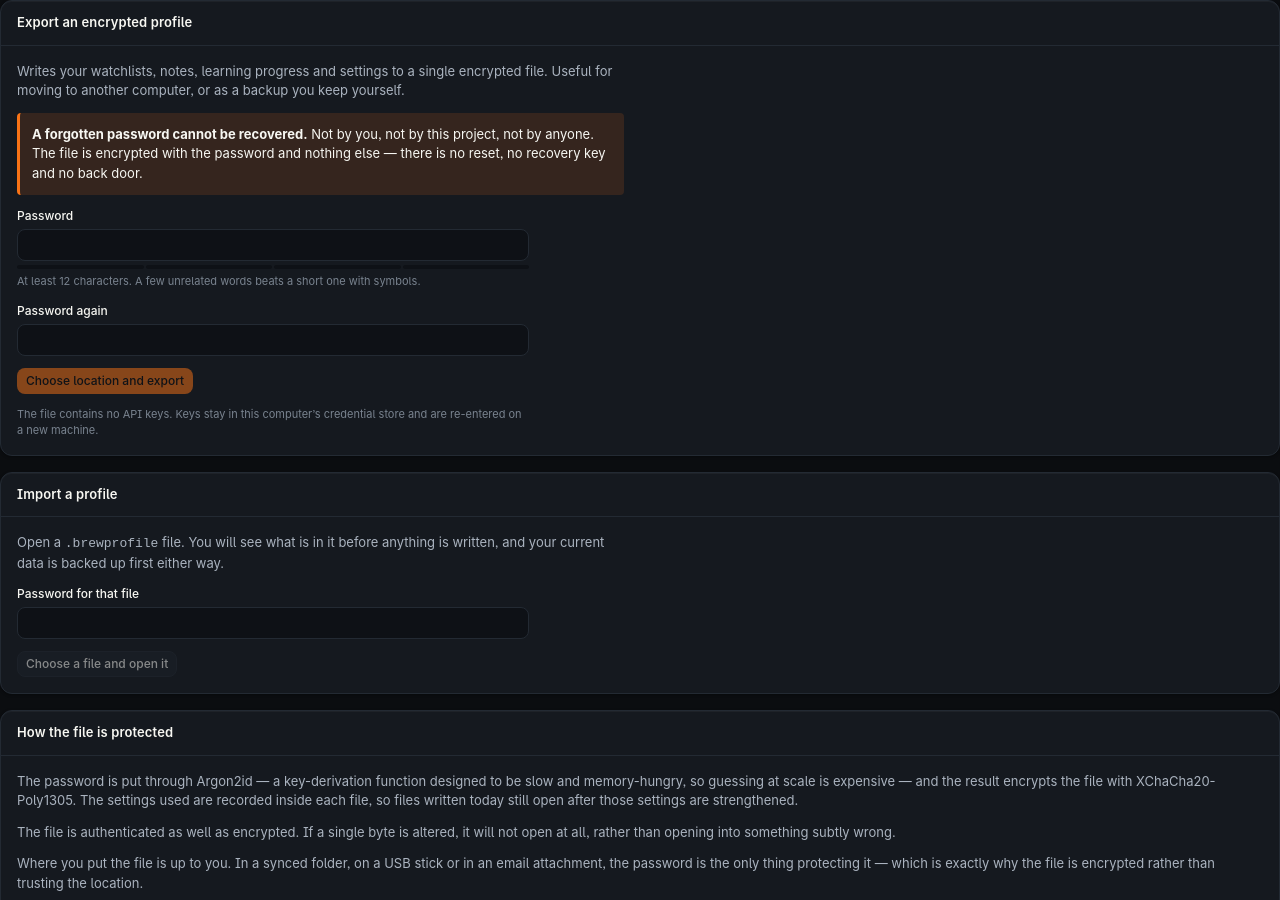
Test: importing a profile › reports a wrong password without applying anything
In the password field labelled "Password": (273, 245) [17,229,529,261], type "correct horse battery staple"
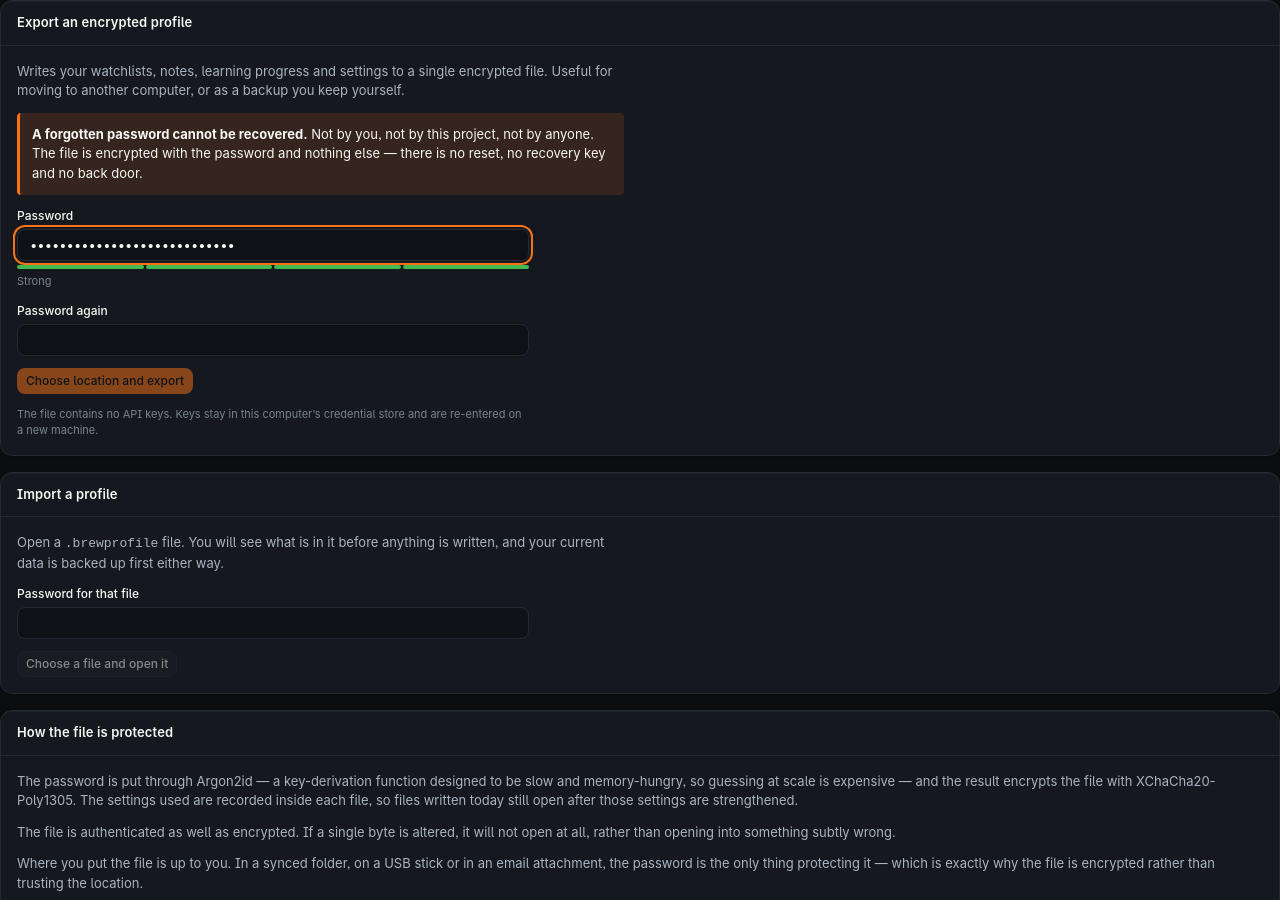
In the password field labelled "Password again": (273, 340) [17,324,529,356], type "correct horse battery staple"
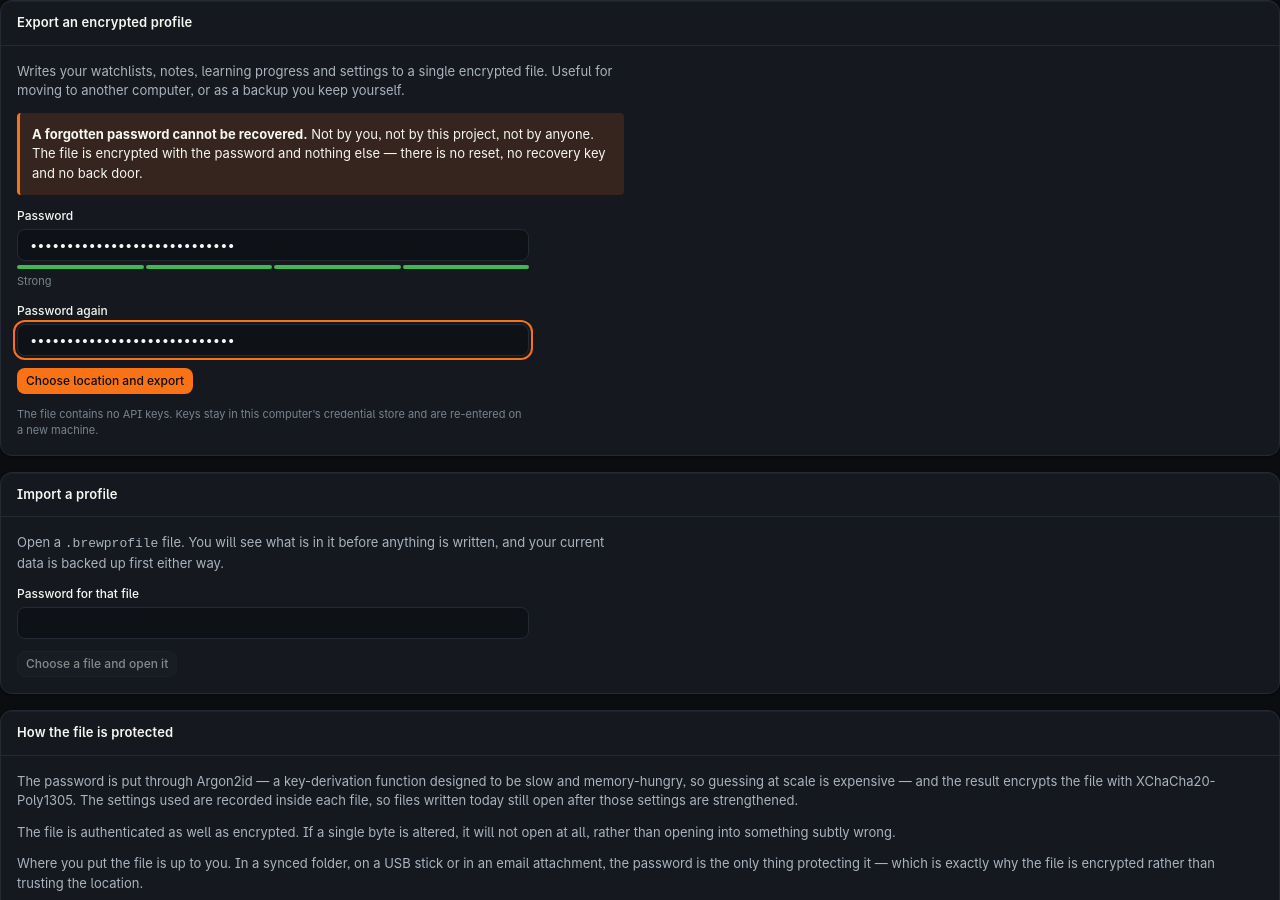
Click the button "Choose location and export": click(105, 380) [17,368,193,394]
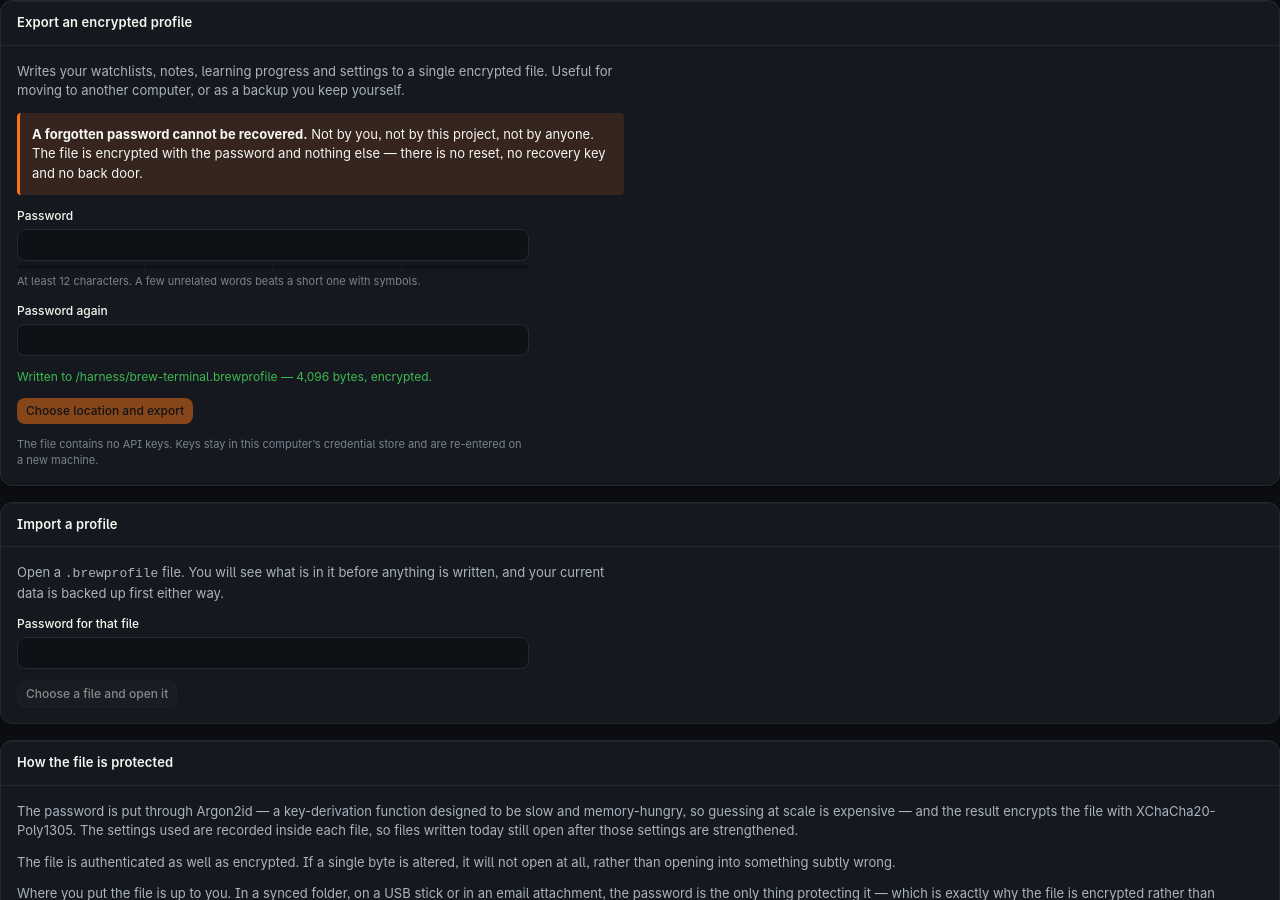
Now the text "Written to /harness/brew-terminal.brewprofile — 4,096 bytes, encrypted." is shown, box [17,368,432,384]
In the password field labelled "Password for that file": (273, 653) [17,637,529,669], type "not the right password"
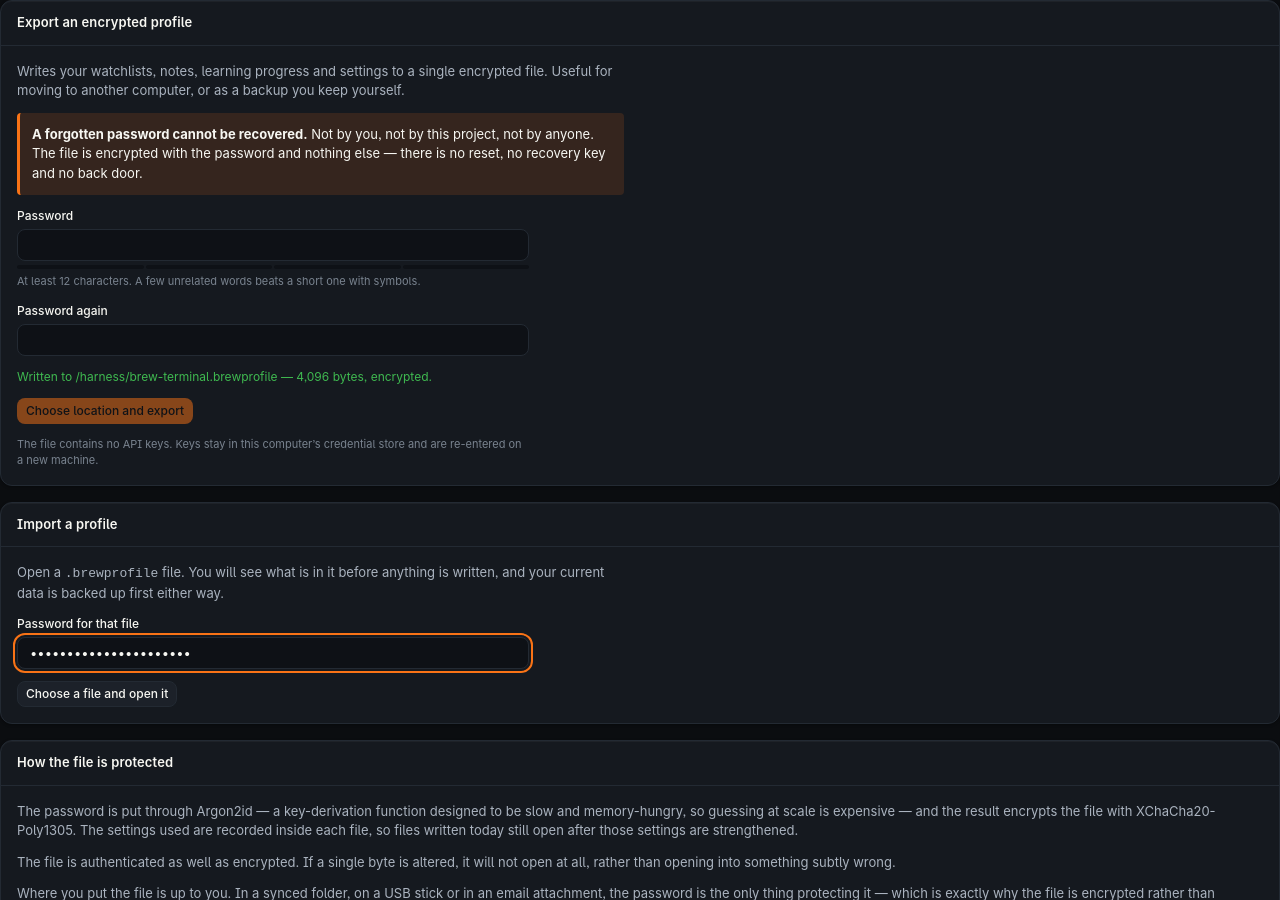
Click the button "Choose a file and open it": click(97, 694) [17,681,177,707]
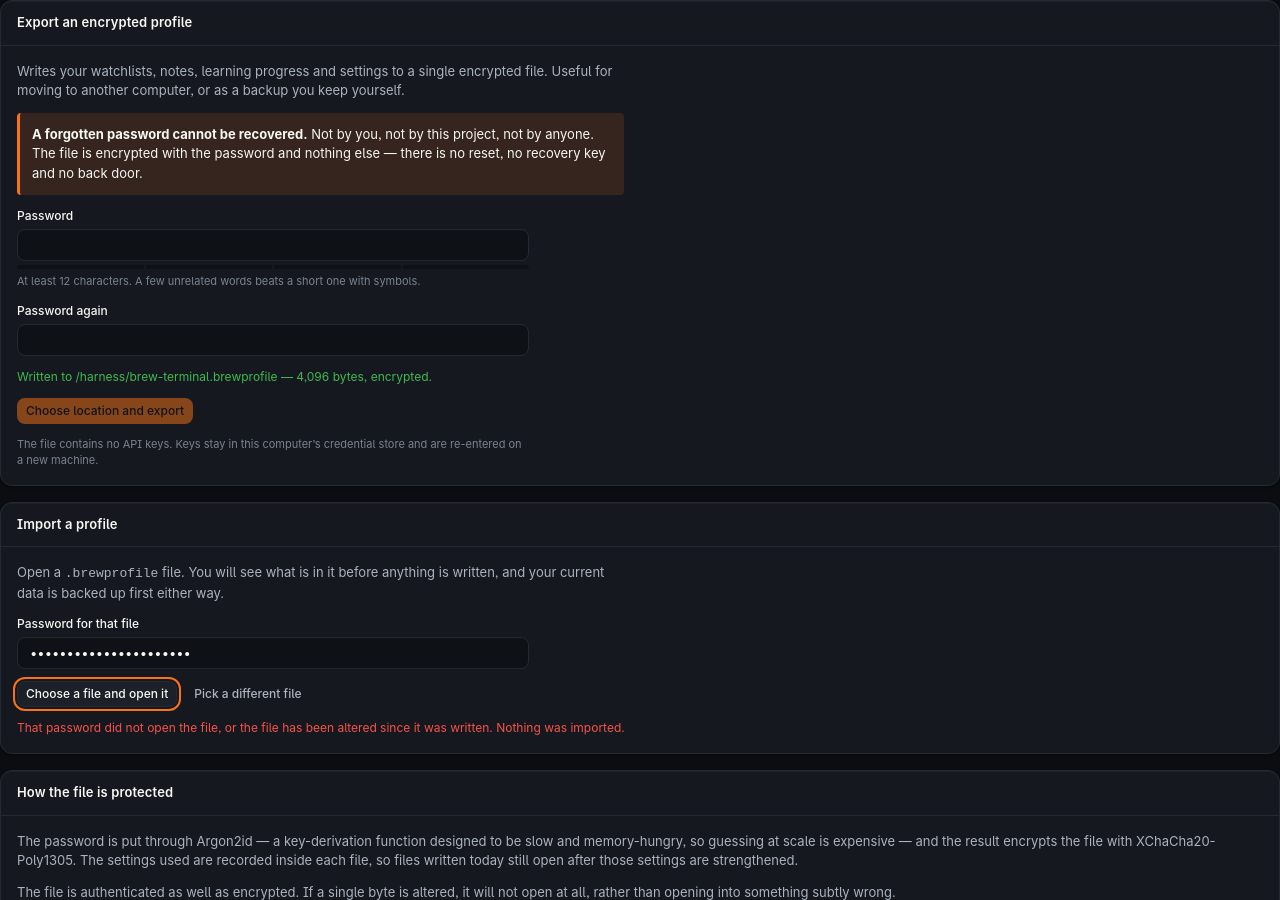
Now the 3rd message shows "did not open the file", box [17,720,625,735]
